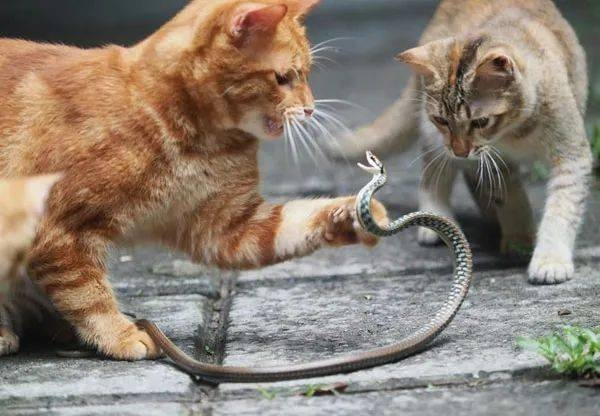cat: (1, 1, 391, 361), (328, 1, 595, 285)
